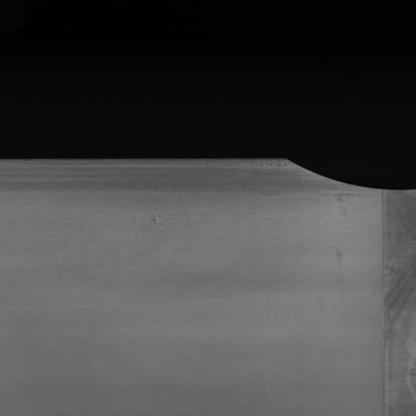crescent_gap: (266, 148, 414, 198)
welding_line: (369, 188, 393, 416)
